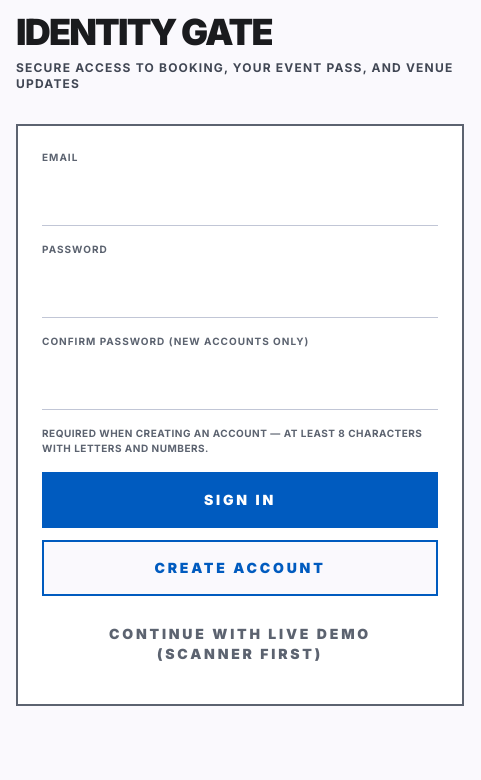
Test case: Login › shows validation when email sign-in with empty fields
Click the button "Sign In" at (240, 500), box [42,472,438,528]
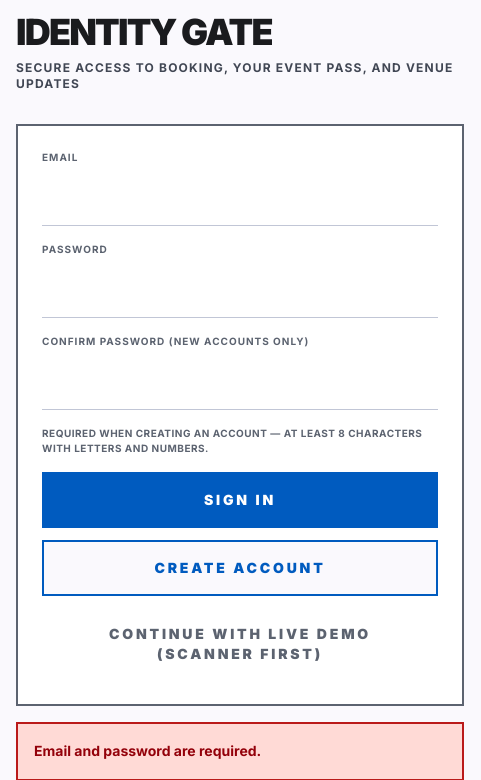
Now the message shows "required", box [34,742,261,759]
